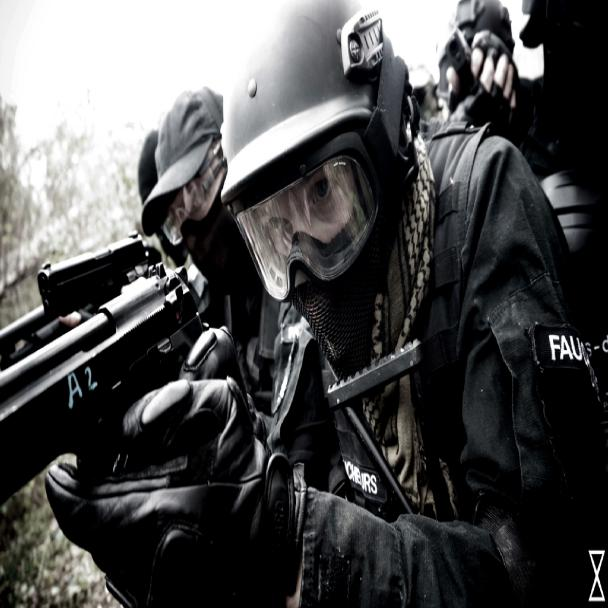Gun: (0, 222, 207, 503)
Hand: (92, 317, 302, 607)
